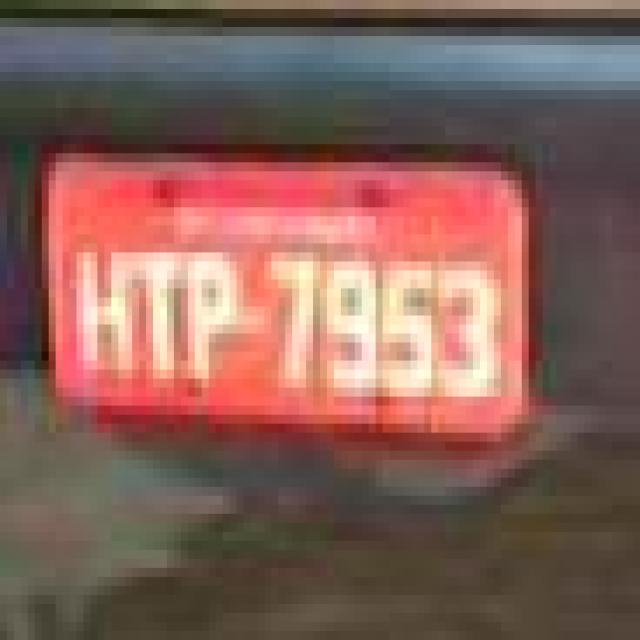3: (439, 246, 506, 400)
5: (382, 254, 440, 396)
7: (259, 238, 318, 402)
9: (321, 246, 380, 401)
H: (63, 228, 138, 390)
P: (173, 245, 251, 399)
T: (130, 238, 184, 382)
